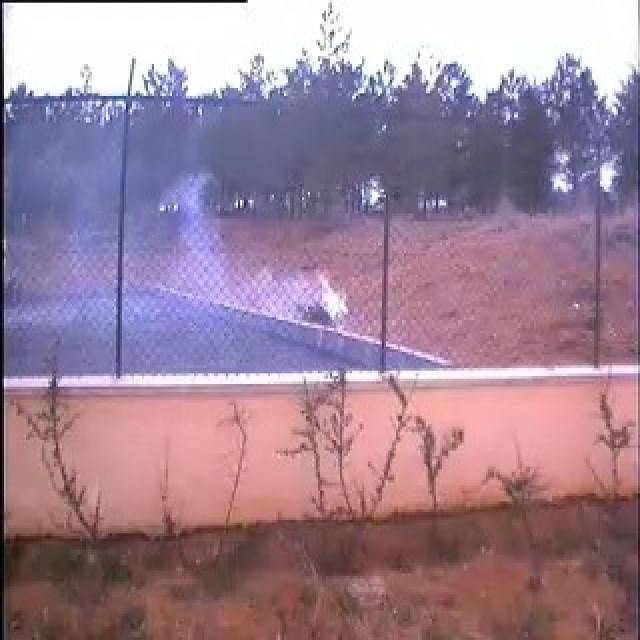smoke: (134, 146, 349, 374)
